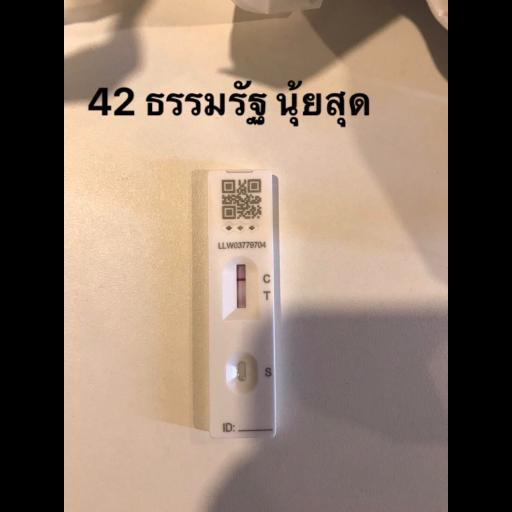Neg: (207, 168, 277, 434)
